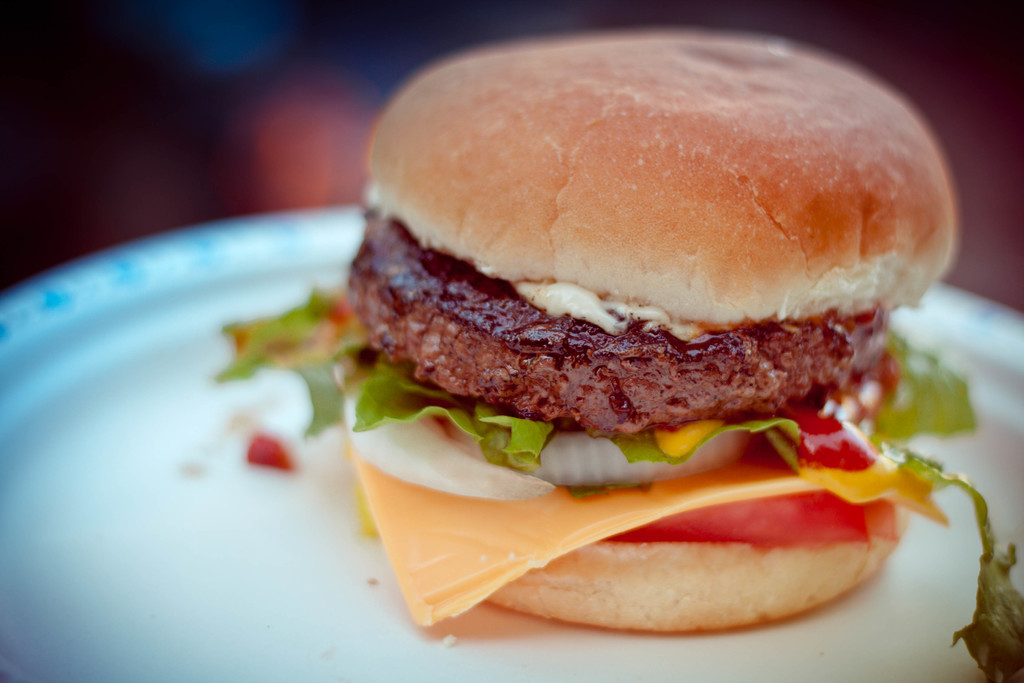Hamburger: (215, 30, 1023, 682)
